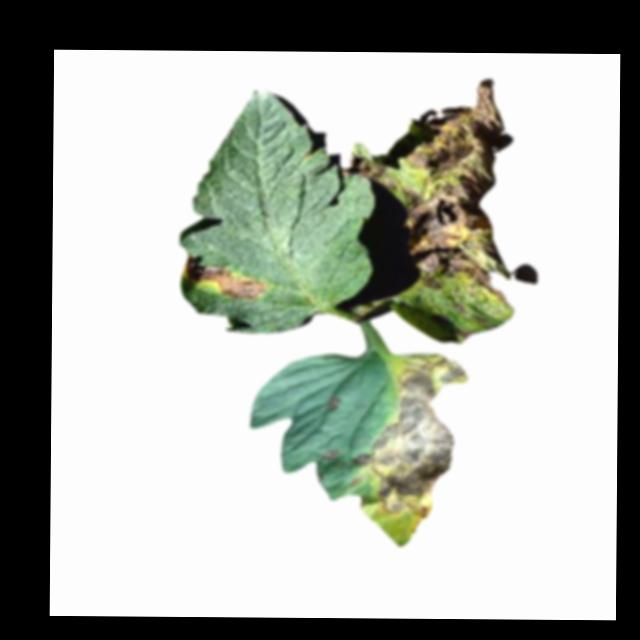Early_blight: (408, 75, 518, 292), (349, 351, 470, 520), (194, 254, 272, 300), (341, 158, 388, 177), (322, 393, 342, 417), (318, 448, 339, 462)
